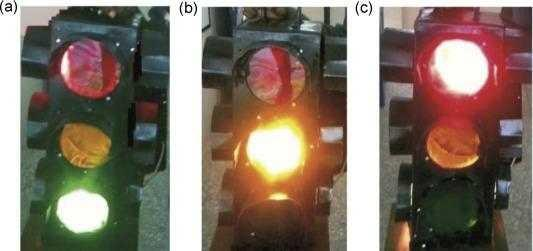green: (41, 15, 136, 250)
red: (409, 14, 500, 251)
